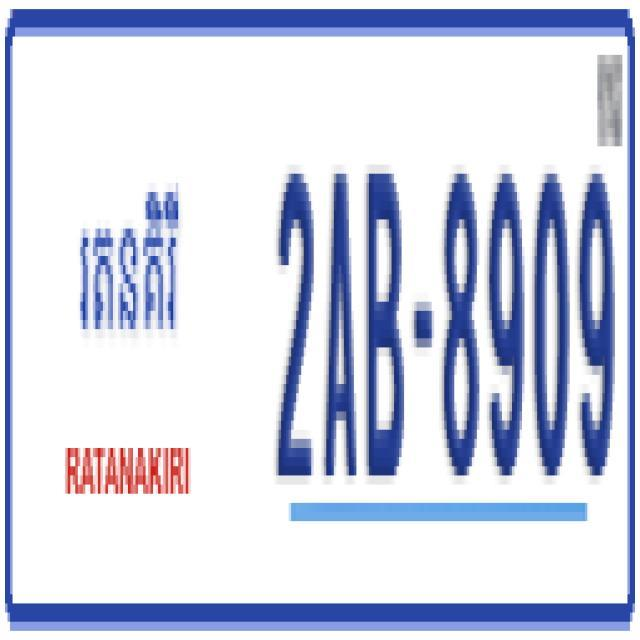Ratanakiri: (77, 171, 183, 362)
